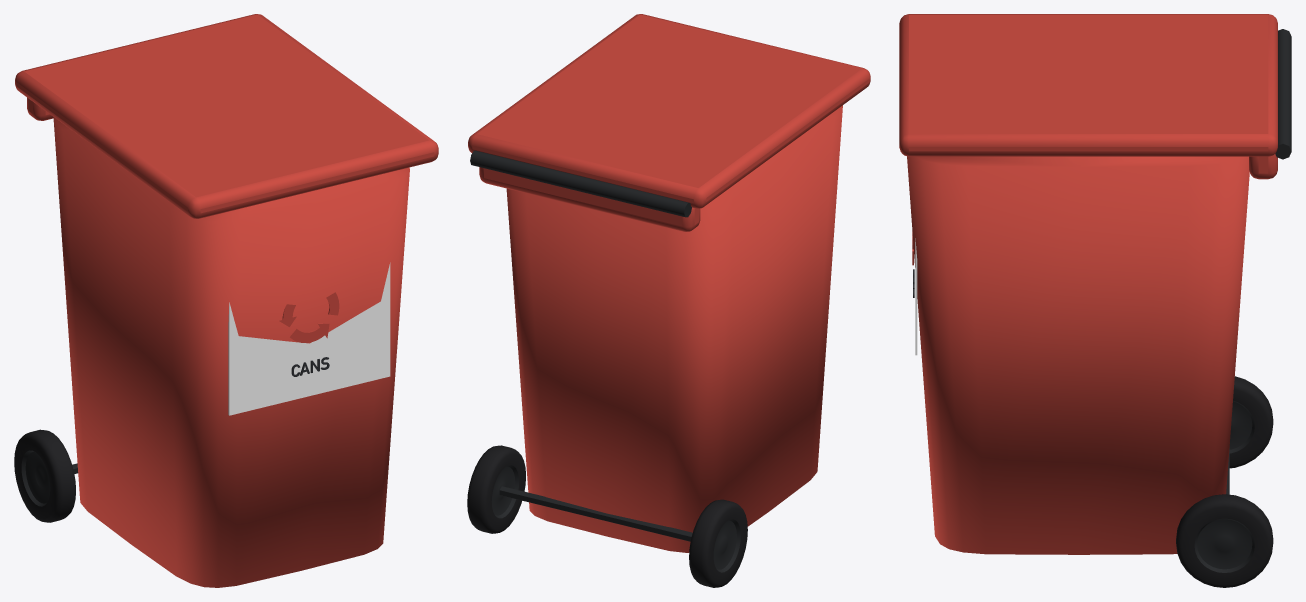
Rendered from wheelie_cans.fbx.
3 renders of one model, left to right at view 1: azimuth 30°, elevation 25°; view 2: azimuth 150°, elevation 25°; view 3: azimuth 270°, elevation 25°, orthographic. The views are drawn at different scales.
Parts seen in each view (by area): view 1: wheelie_cans; view 2: wheelie_cans; view 3: wheelie_cans.
Boxes of the visible parts, box(x1,y1,x2,y2) form: wheelie_cans: box(14, 14, 438, 587); wheelie_cans: box(467, 14, 870, 587); wheelie_cans: box(899, 14, 1291, 587).
Bounding box in the file's own units: 0.63 × 1.02 × 0.808.
